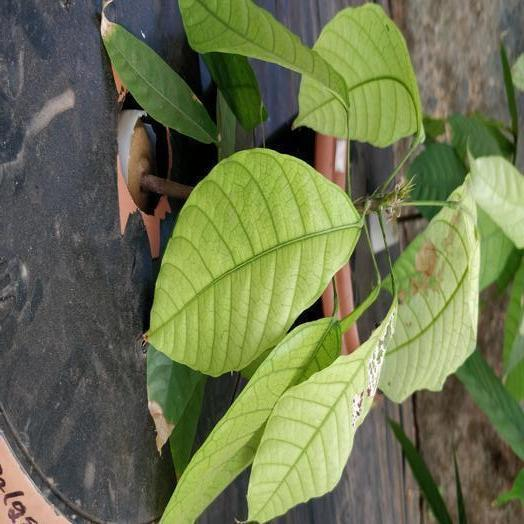Healthy Leaf: (101, 8, 217, 141), (455, 350, 523, 460), (148, 347, 206, 475), (201, 53, 266, 130), (406, 142, 464, 220)
Iron: (146, 149, 360, 374), (160, 318, 340, 523), (248, 302, 395, 521), (380, 185, 479, 401), (294, 4, 421, 147), (179, 0, 345, 102), (469, 156, 523, 248), (479, 207, 513, 290)
